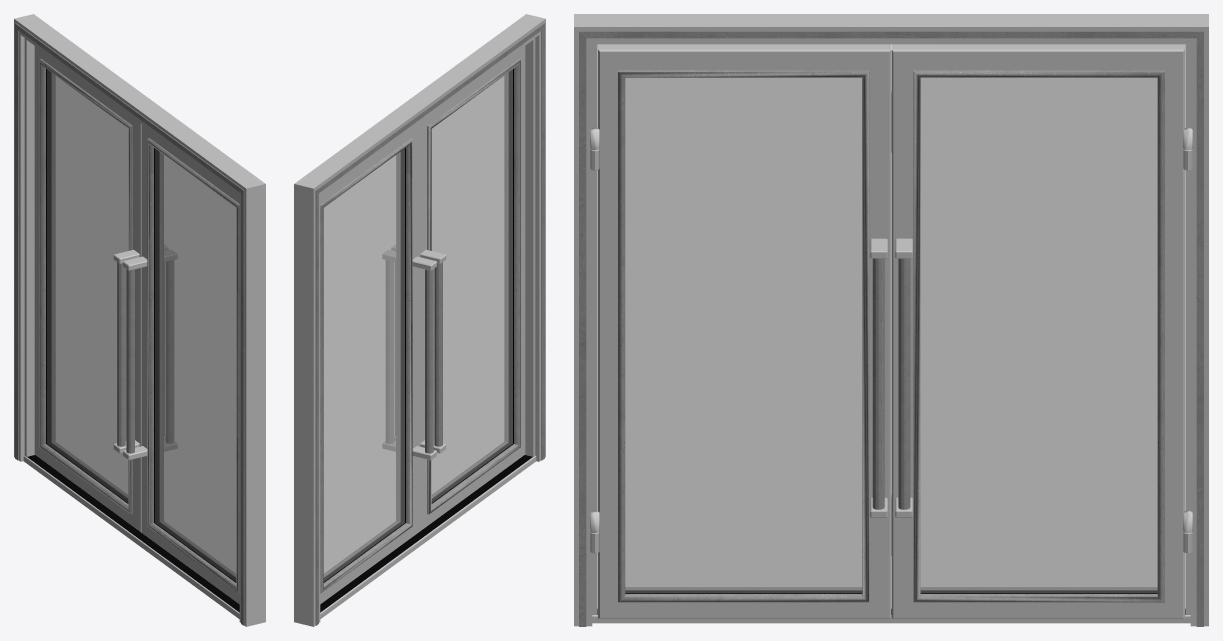
The model's file is DualDoor.fbx.
The picture shows the model from 3 angles, left to right: view 1: azimuth 30°, elevation 25°; view 2: azimuth 150°, elevation 25°; view 3: azimuth 270°, elevation 25°; orthographic projection. The views are drawn at different scales.
Parts seen in each view (by area): view 1: Door_A, Door_B, DualDoor; view 2: Door_B, Door_A, DualDoor; view 3: Door_A, Door_B, DualDoor.
Part boxes in pixels (<box>): Door_A: <box>34,46,168,532</box>; Door_B: <box>123,124,239,604</box>; DualDoor: <box>14,14,265,626</box>; Door_B: <box>391,46,525,532</box>; Door_A: <box>320,124,436,604</box>; DualDoor: <box>294,14,545,626</box>; Door_A: <box>891,44,1192,618</box>; Door_B: <box>590,44,891,618</box>; DualDoor: <box>574,14,1208,626</box>.
Size of the model in its own units: 27.67 by 235 by 226.
